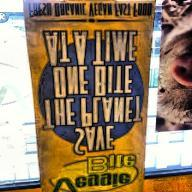boar: (156, 10, 192, 126)
